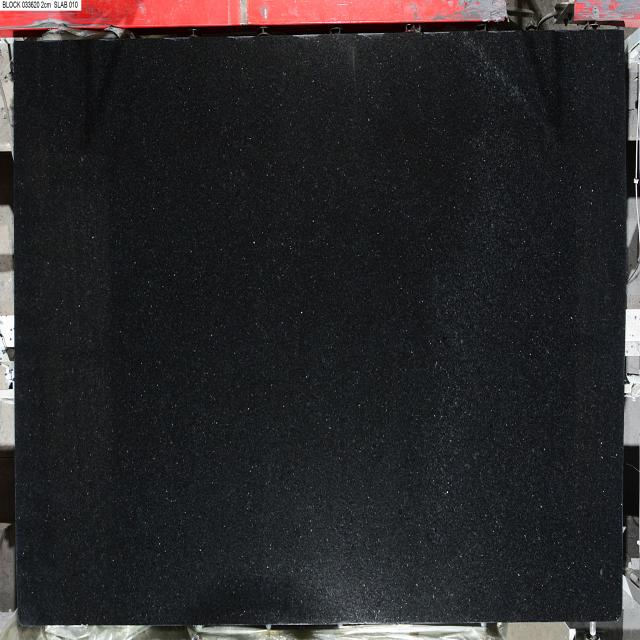chapa: (15, 30, 626, 624)
